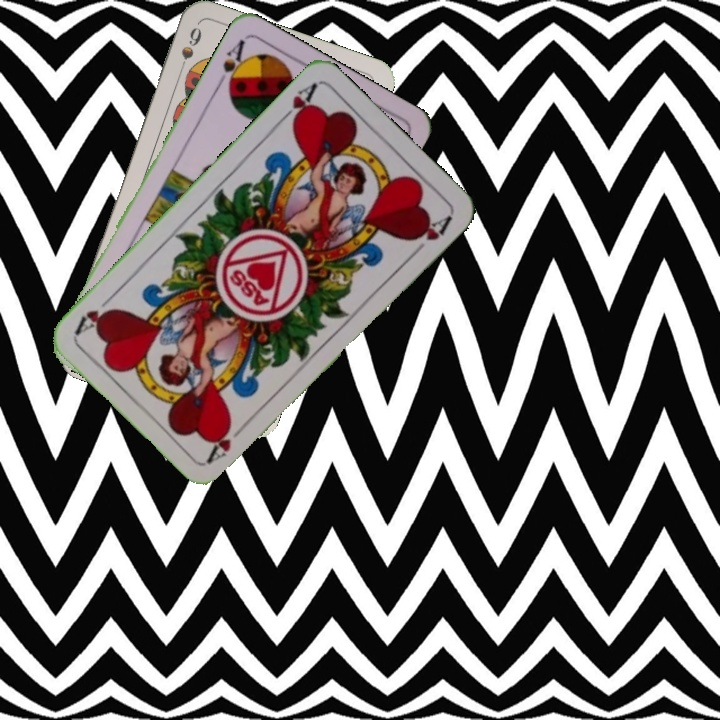HA: (273, 79, 320, 128), (203, 418, 251, 465)
S9: (173, 23, 205, 79)
SA: (213, 35, 251, 95)
